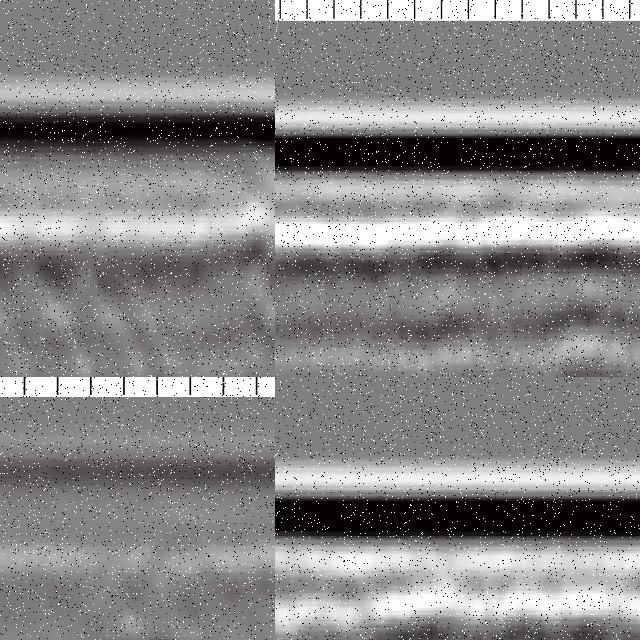loose: (1, 206, 276, 378)
